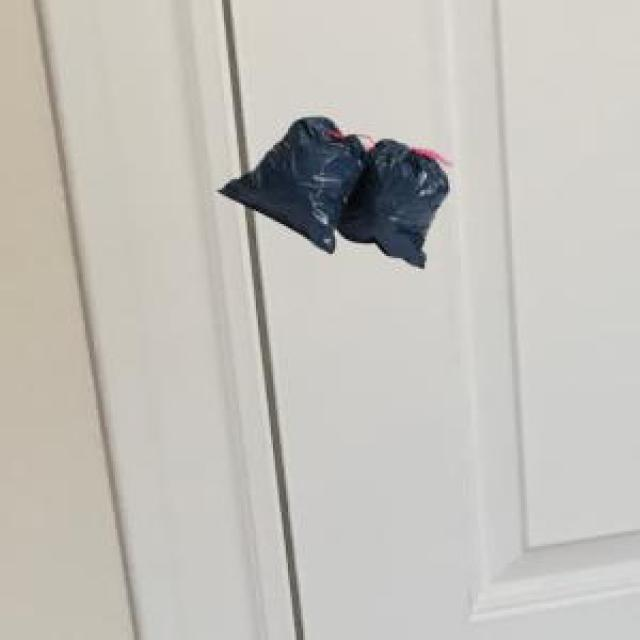miscellaneous trash: (213, 113, 448, 262)
